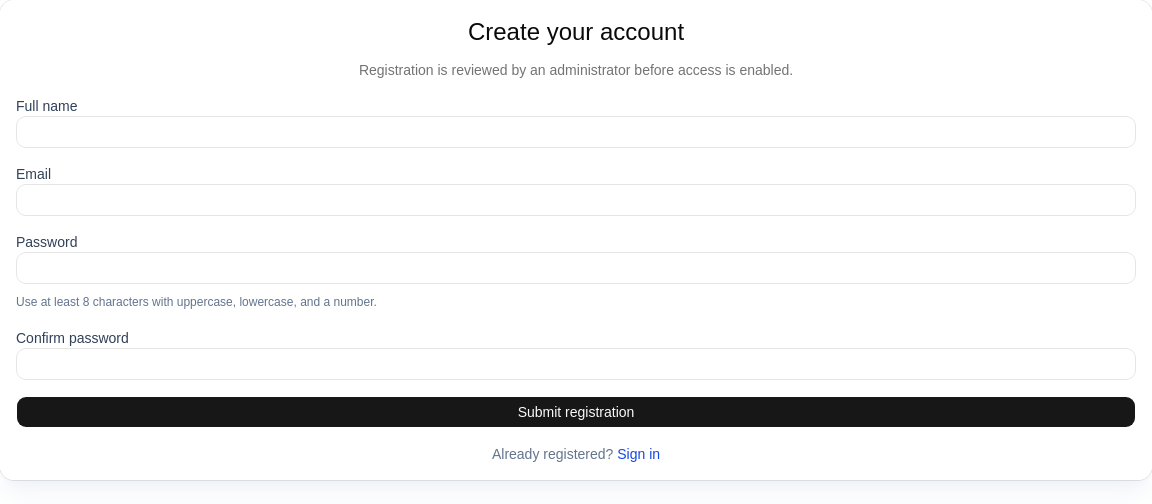
registration form › submits a registration and shows the pending approval feedback
Type "  New Employee  " into the field labelled "Full name" at (576, 132), box [16, 116, 1136, 148]
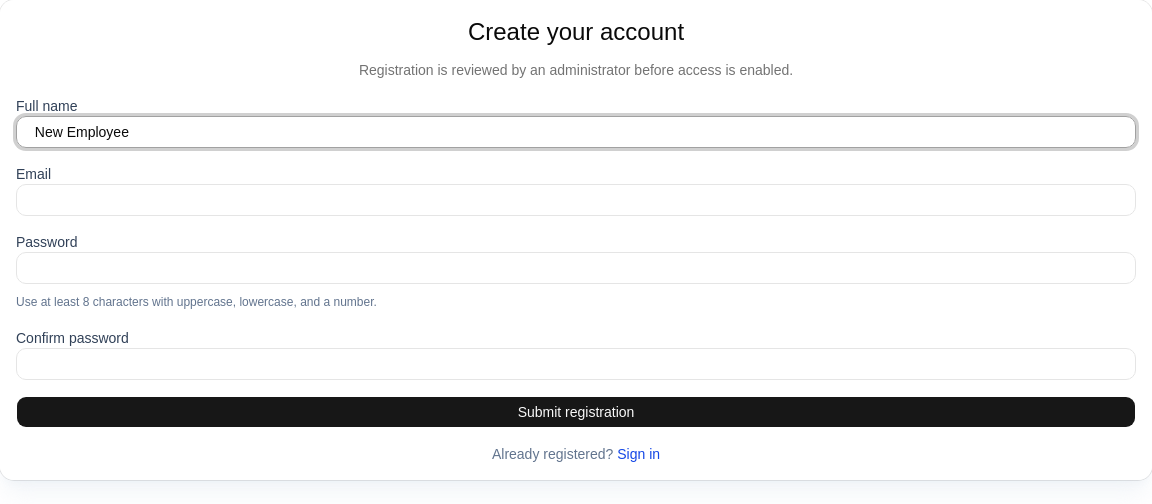
Type "NEW@OFFICE.LOCAL" into the field labelled "Email" at (576, 200), box [16, 184, 1136, 216]
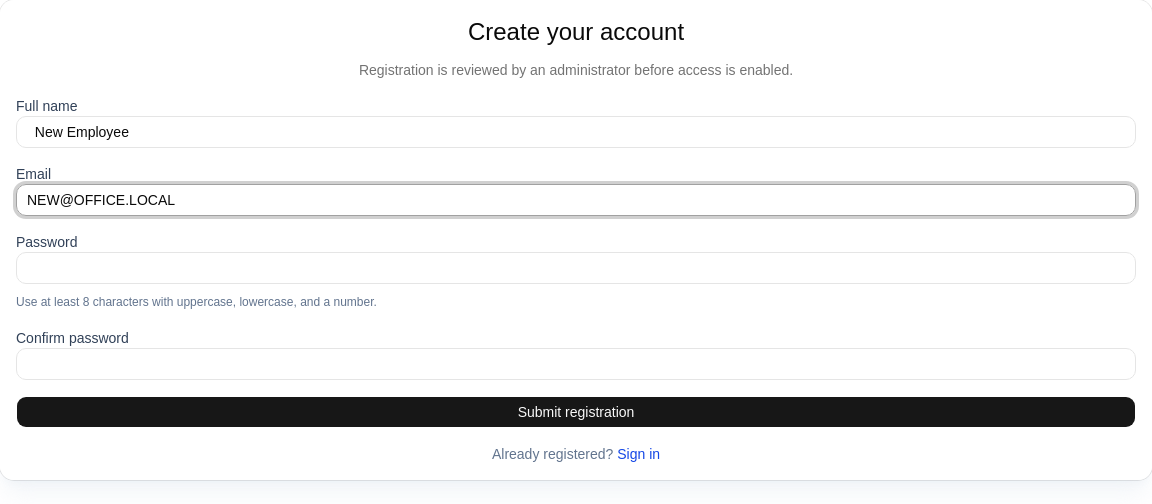
Type "Strong.Password.123" into the password field labelled "Password" at (576, 268), box [16, 252, 1136, 284]
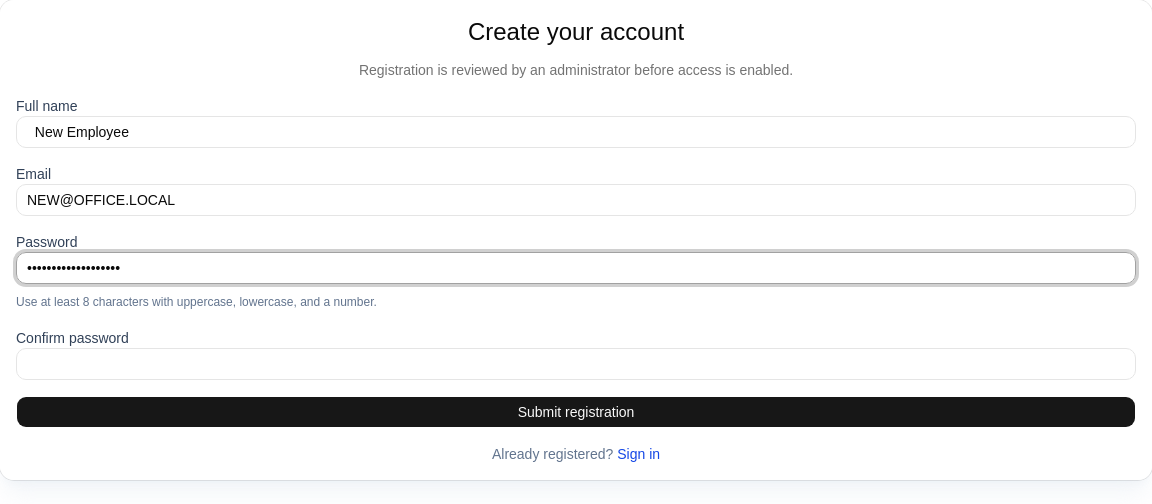
Type "Strong.Password.123" into the password field labelled "Confirm password" at (576, 364), box [16, 348, 1136, 380]
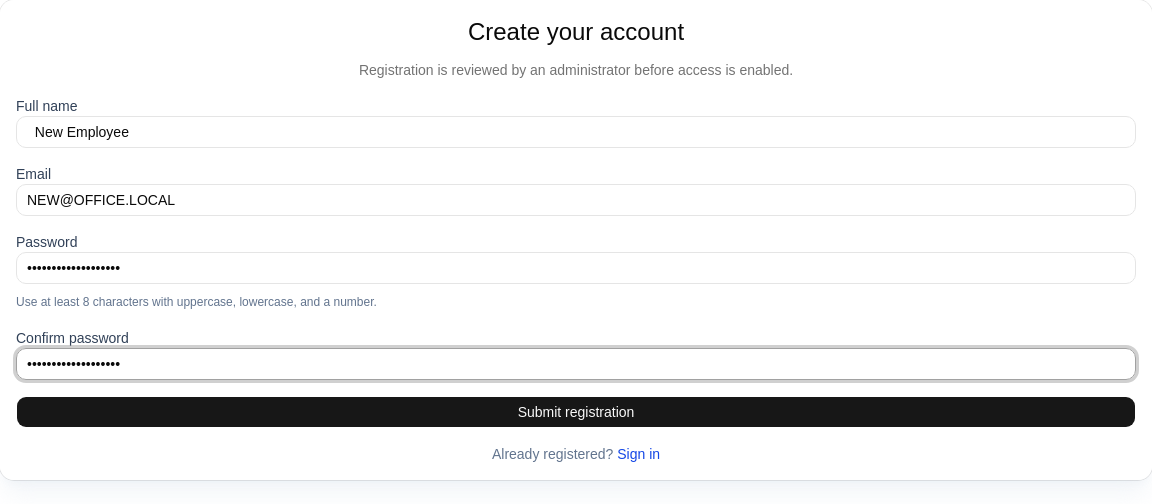
Click the button "Submit registration" at (576, 412), box [16, 396, 1136, 428]
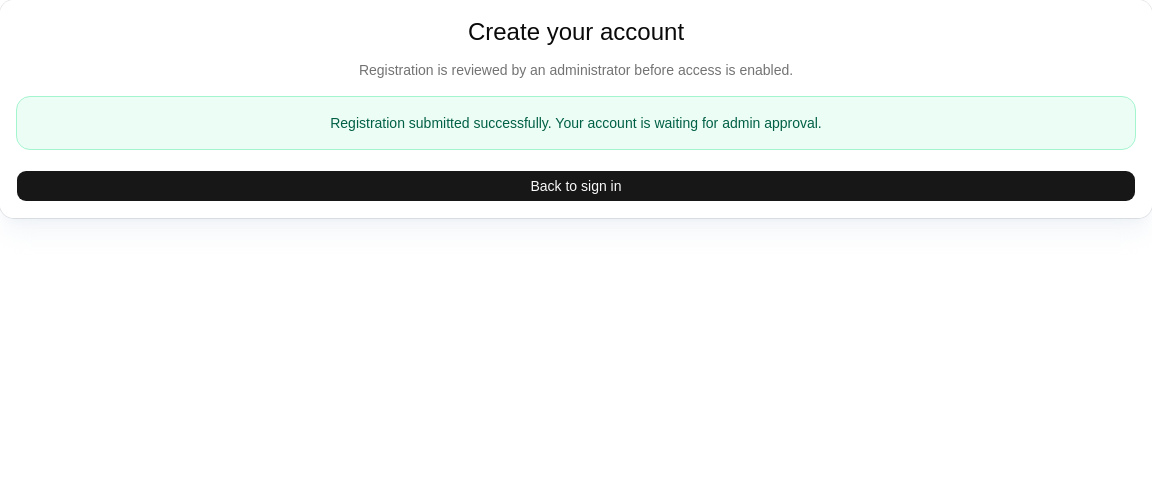
Now the message shows "waiting for admin approval", box [330, 115, 822, 131]
